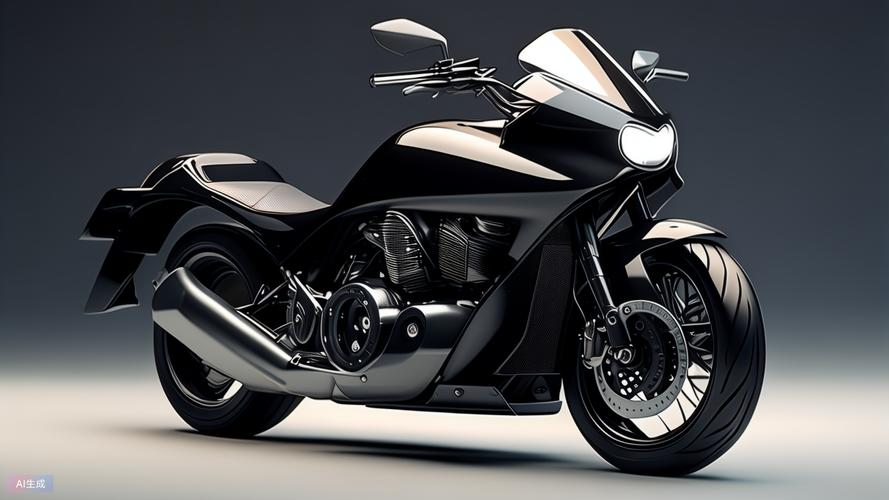摩托车: (74, 9, 773, 487)
